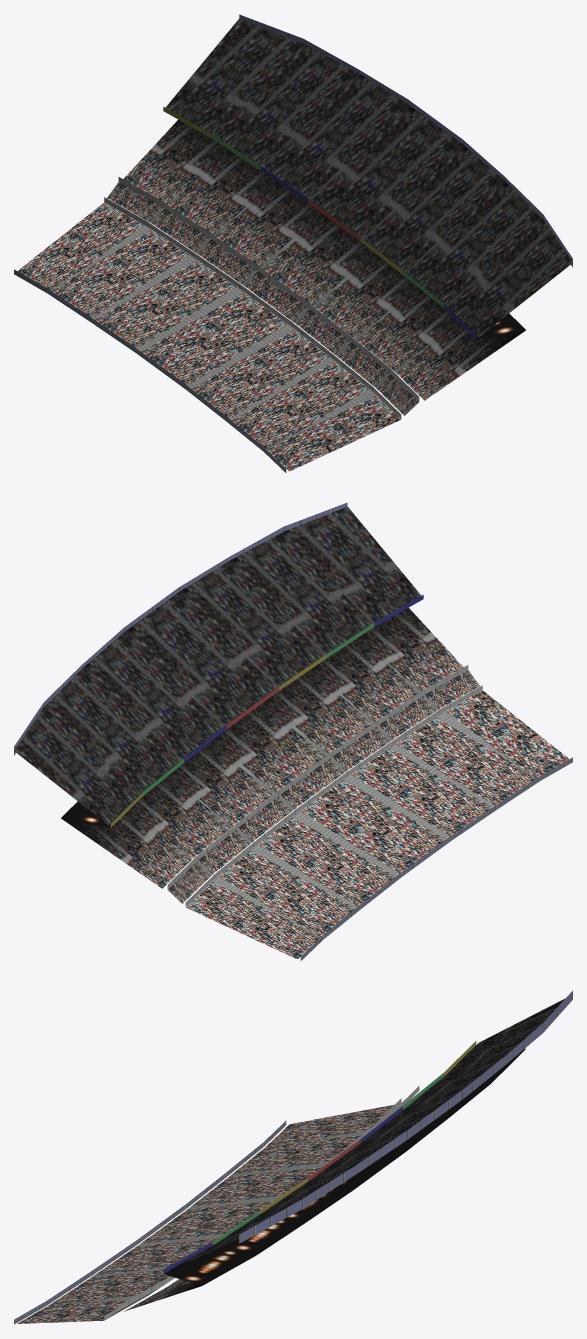
3 renders of one model, top to bottom at view 1: azimuth 30°, elevation 25°; view 2: azimuth 150°, elevation 25°; view 3: azimuth 330°, elevation 25°, orthographic.
Bounding box in the file's own units: 60 × 37.15 × 122.
Materials: 8 (8 with a texture image).
